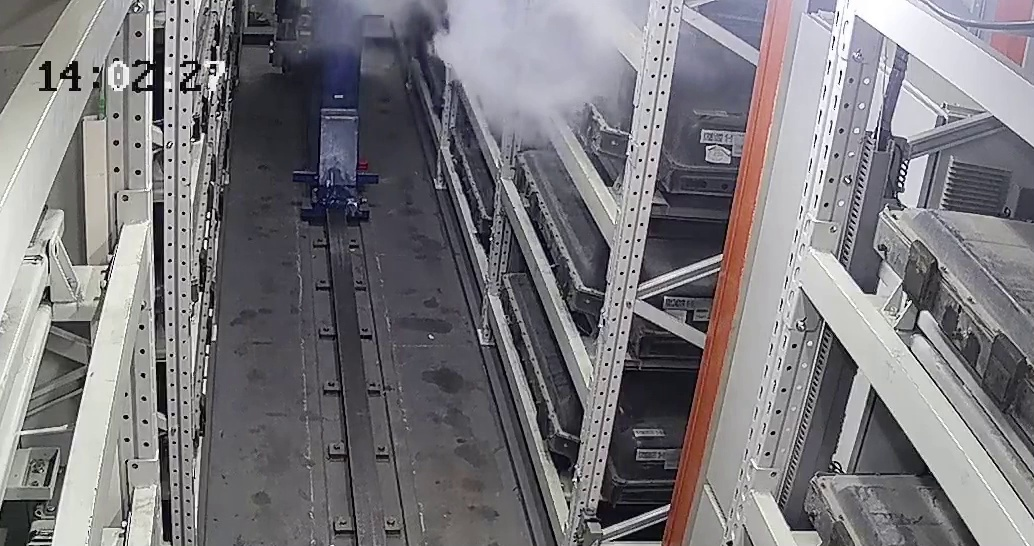smoke: (411, 8, 621, 119)
